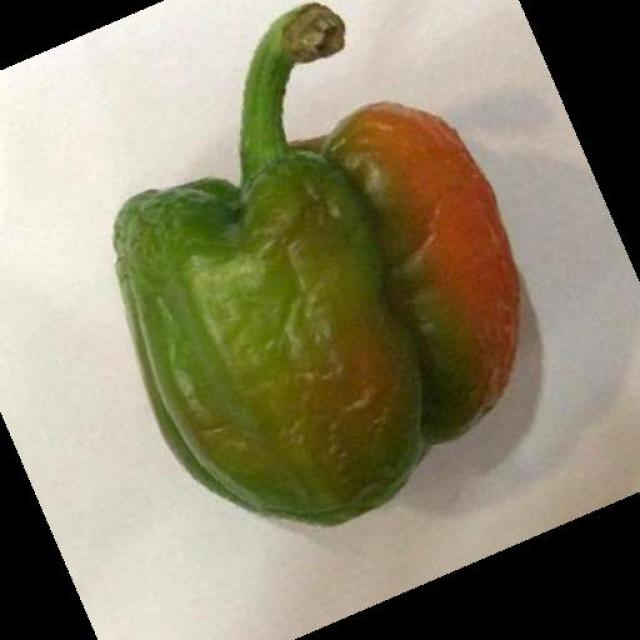Stale_Capsicum: (100, 89, 540, 520)
